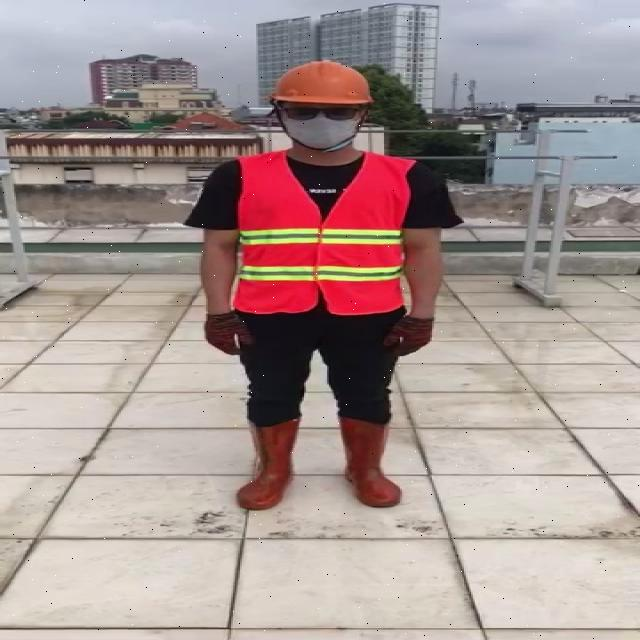Hard_hat: (265, 55, 378, 117)
Vest: (234, 150, 414, 314)
